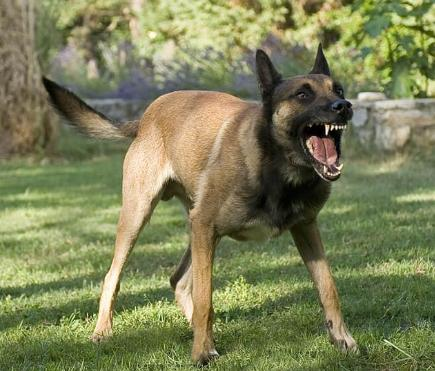dog_aggressive: (43, 44, 356, 361)
